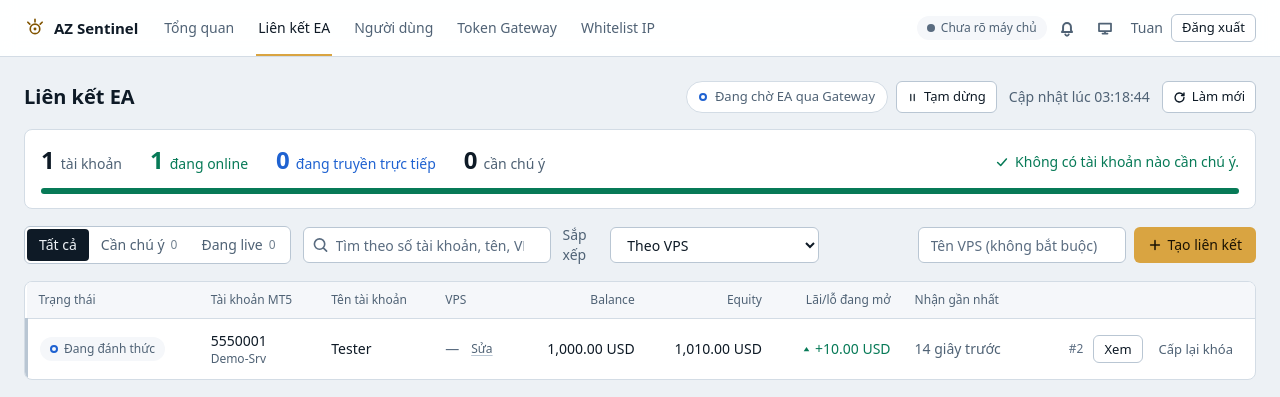
Test: dữ liệu live và hiển thị (F-12, F-13, F-14, F-18) › F-18: nút Live có aria-pressed; trạng thái đọc qua vùng aria-live
The image size is (1280, 397).
Expected: the text "5550001" is shown, [211, 331, 267, 350]
Expected: the message reads "Đang chờ EA qua Gateway", [715, 87, 875, 105]
Click the button "Tạm dừng" at (946, 97), box [896, 81, 997, 113]
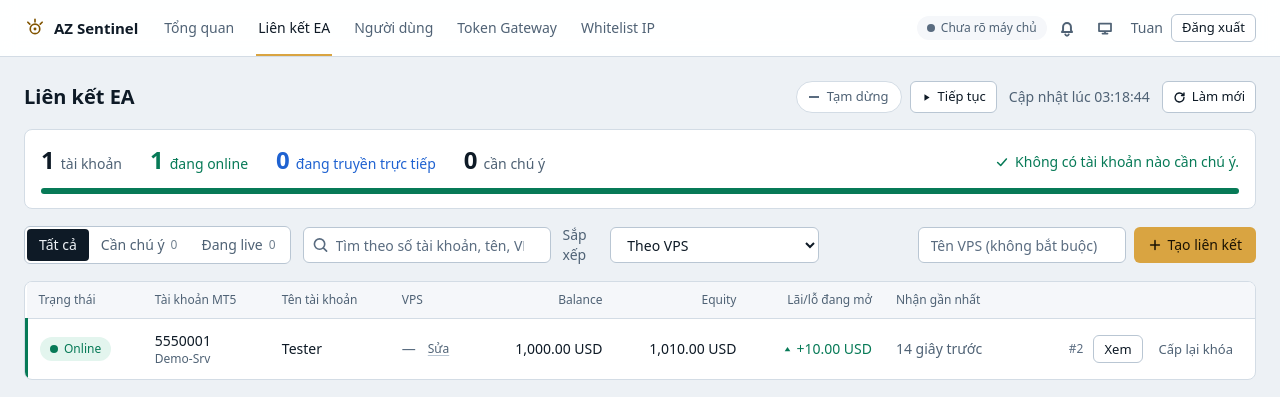
Now the message reads "Tạm dừng", box [827, 87, 889, 105]
